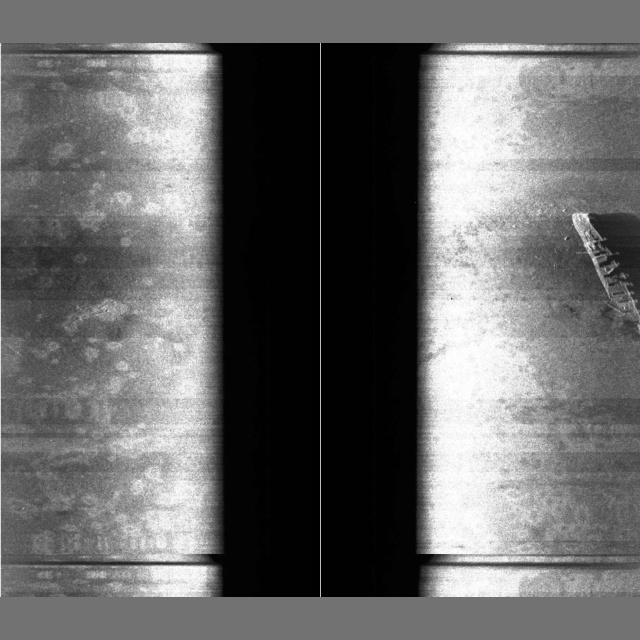Shipwreck: (532, 209, 640, 333)
